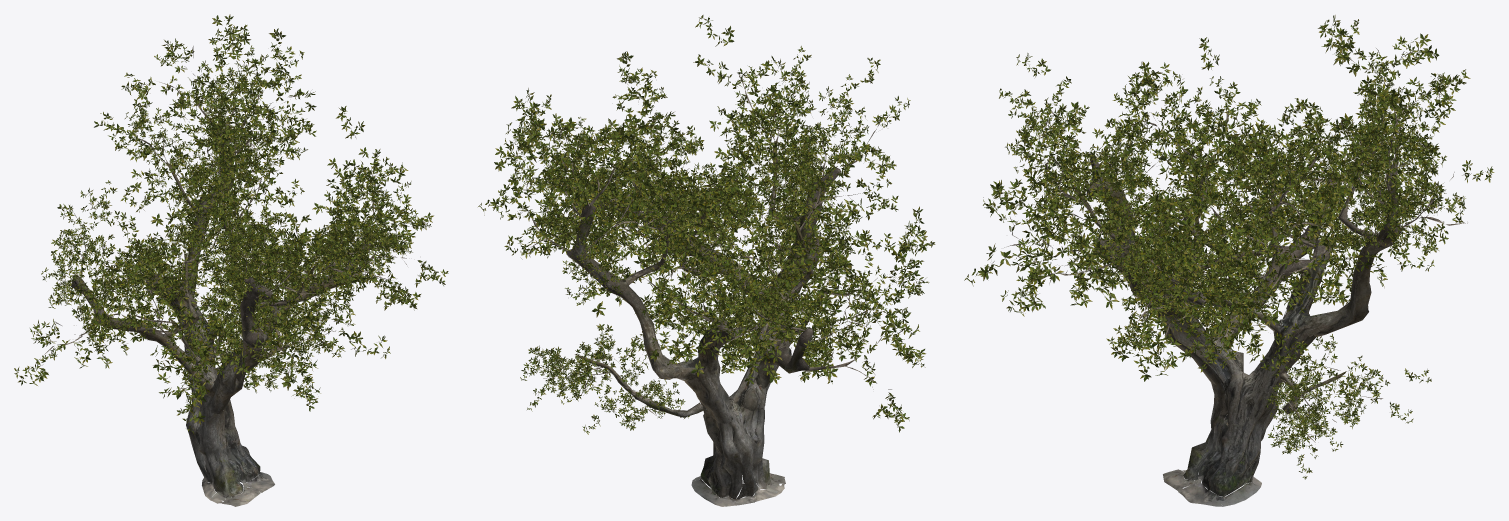
The model's file is island_tree_01.glb.
3 renders of one model, left to right at view 1: azimuth 30°, elevation 25°; view 2: azimuth 150°, elevation 25°; view 3: azimuth 270°, elevation 25°, orthographic. The views are drawn at different scales.
Visible parts, largest first — view 1: island_tree_01_LOD0; view 2: island_tree_01_LOD0; view 3: island_tree_01_LOD0.
Boxes of the visible parts, <box> form: island_tree_01_LOD0: <box>14,14,448,506</box>; island_tree_01_LOD0: <box>478,15,935,506</box>; island_tree_01_LOD0: <box>964,15,1494,506</box>.
Size of the model in its own units: 4.76 by 5.03 by 4.82.
Materials: 3 (3 with a texture image).
